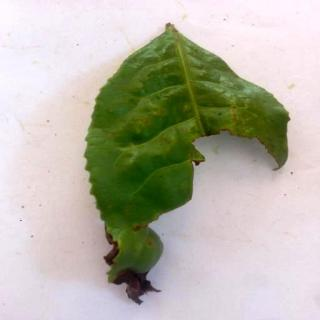Brown Blight: (87, 25, 294, 306)
